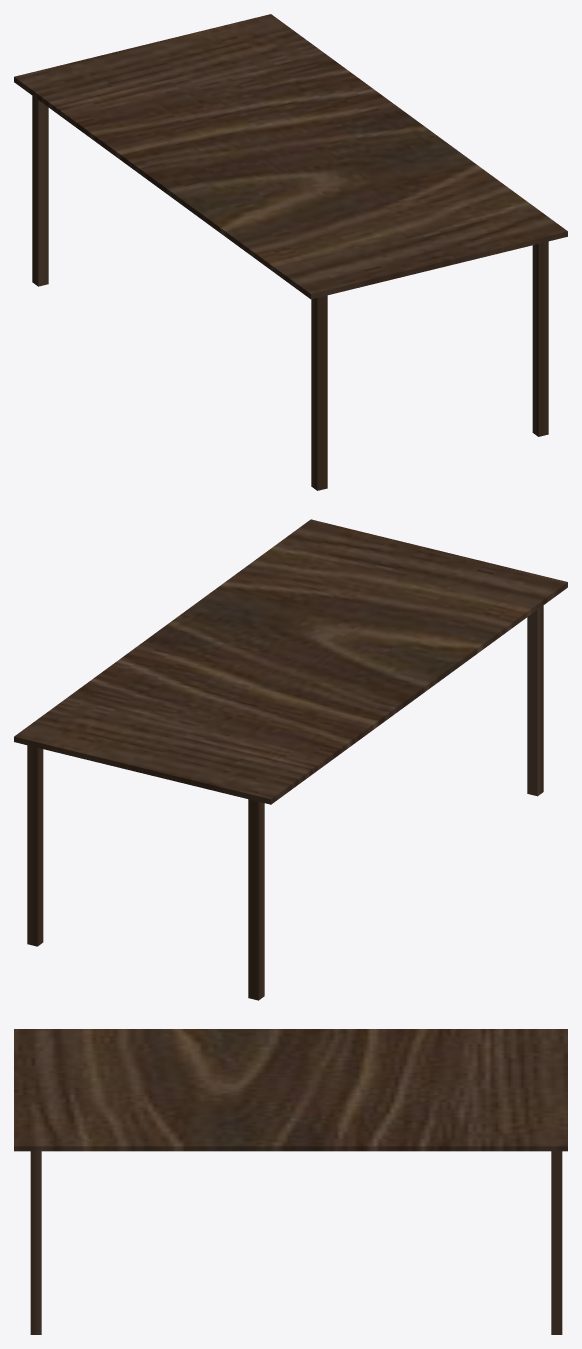
The model's file is table.glb.
3 renders of one model, top to bottom at view 1: azimuth 30°, elevation 25°; view 2: azimuth 150°, elevation 25°; view 3: azimuth 270°, elevation 25°, orthographic. The views are drawn at different scales.
Bounding box in the file's own units: 1 × 0.77 × 2.
Materials: 1 (1 with a texture image).
